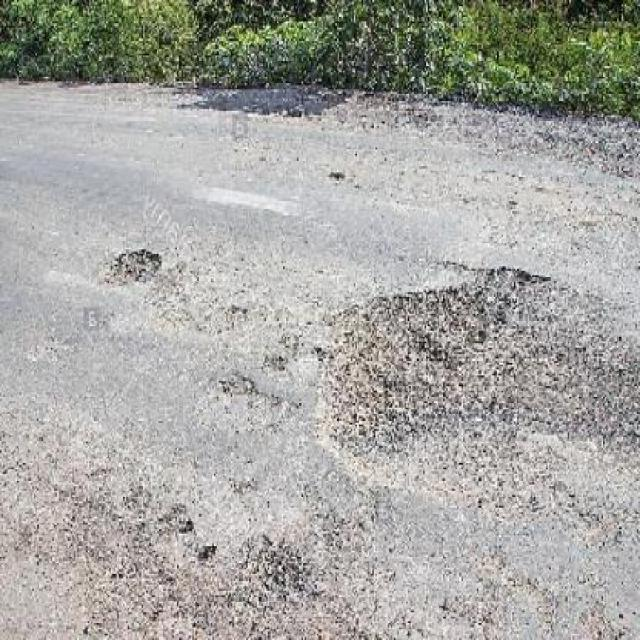pothole: (318, 263, 554, 483), (100, 243, 165, 292), (156, 503, 199, 536), (215, 374, 260, 399), (194, 544, 220, 566), (327, 169, 347, 186)
